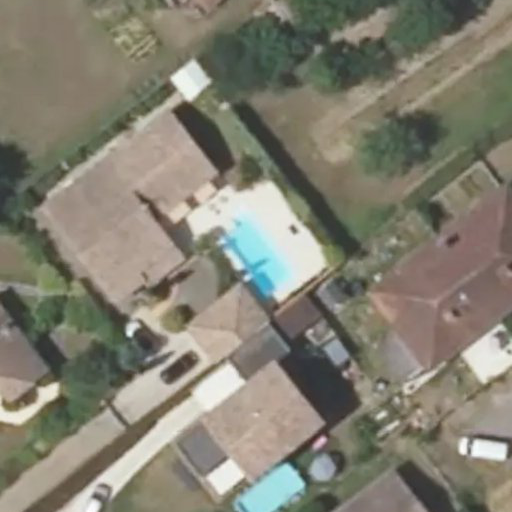pool: (213, 214, 293, 299), (231, 460, 315, 512)
